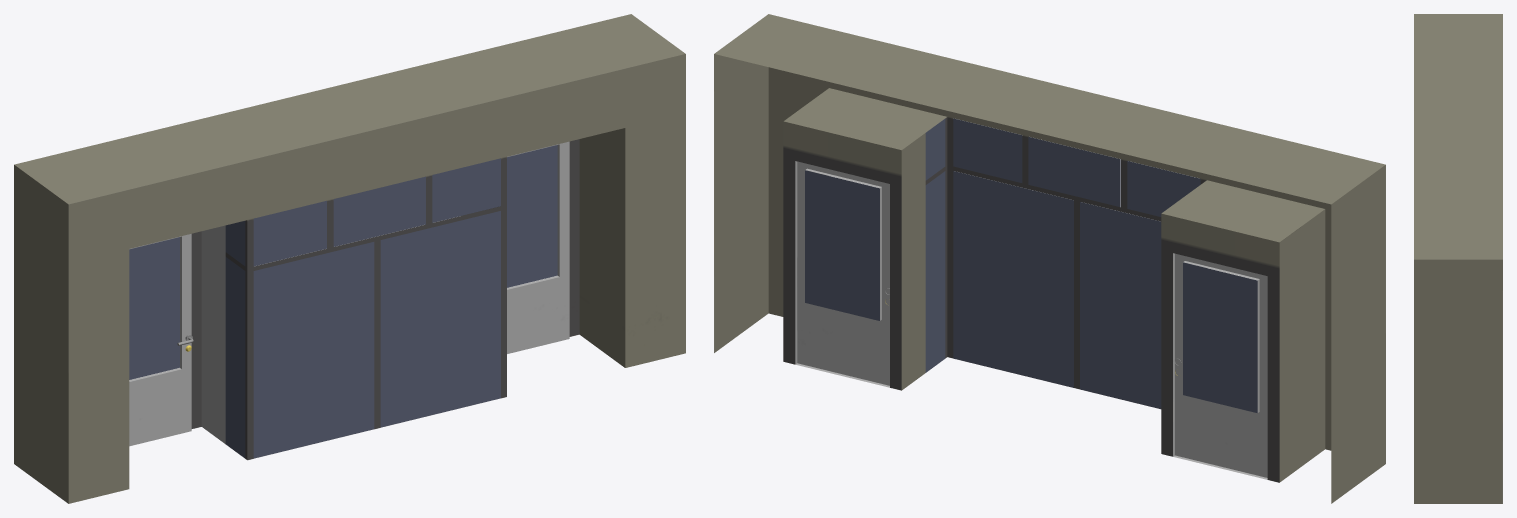
The model's file is M_3W_2F_building_store1.fbx.
The picture shows the model from 3 angles, left to right: view 1: azimuth 30°, elevation 25°; view 2: azimuth 150°, elevation 25°; view 3: azimuth 270°, elevation 25°; orthographic projection. The views are drawn at different scales.
Visible parts, largest first — view 1: Object051; view 2: Object051; view 3: Object051.
Part boxes in pixels (x1,y1,x2,y2): Object051: (14, 14, 685, 503); Object051: (714, 14, 1385, 503); Object051: (1414, 14, 1502, 503).
Size of the model in its own units: 1726 by 800 by 264.
